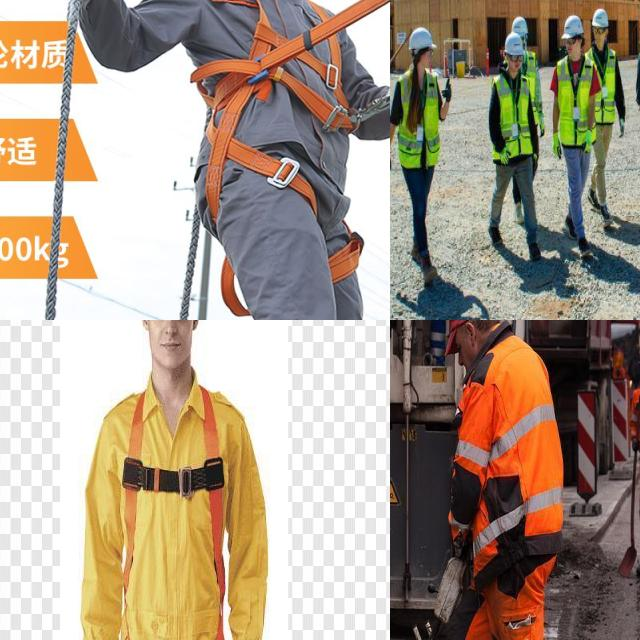Harness: (191, 0, 355, 232), (122, 387, 224, 640)
face_nomask: (446, 326, 476, 370)
glasses: (507, 51, 525, 66), (563, 35, 577, 49), (593, 23, 607, 37)
hand_glove: (612, 108, 628, 145), (494, 142, 510, 178), (439, 77, 456, 108), (551, 134, 564, 166), (579, 128, 592, 159), (390, 144, 397, 179)
head_helmet: (407, 24, 437, 52), (560, 12, 584, 43), (504, 31, 524, 56), (510, 16, 529, 38), (590, 7, 608, 30)
head_nohelmet: (445, 320, 493, 338)
person: (390, 320, 575, 640), (390, 25, 451, 285), (489, 34, 546, 269), (551, 12, 598, 261), (588, 8, 628, 230), (512, 16, 547, 127), (628, 352, 640, 579)
shoes: (418, 251, 438, 290), (585, 186, 603, 217), (525, 235, 543, 265), (575, 233, 593, 263), (487, 223, 505, 252), (598, 198, 614, 228), (565, 211, 575, 241), (634, 556, 640, 581)
vest: (456, 358, 564, 583), (394, 62, 442, 168), (492, 78, 539, 168), (554, 52, 598, 148), (587, 42, 617, 125), (626, 383, 640, 458)
